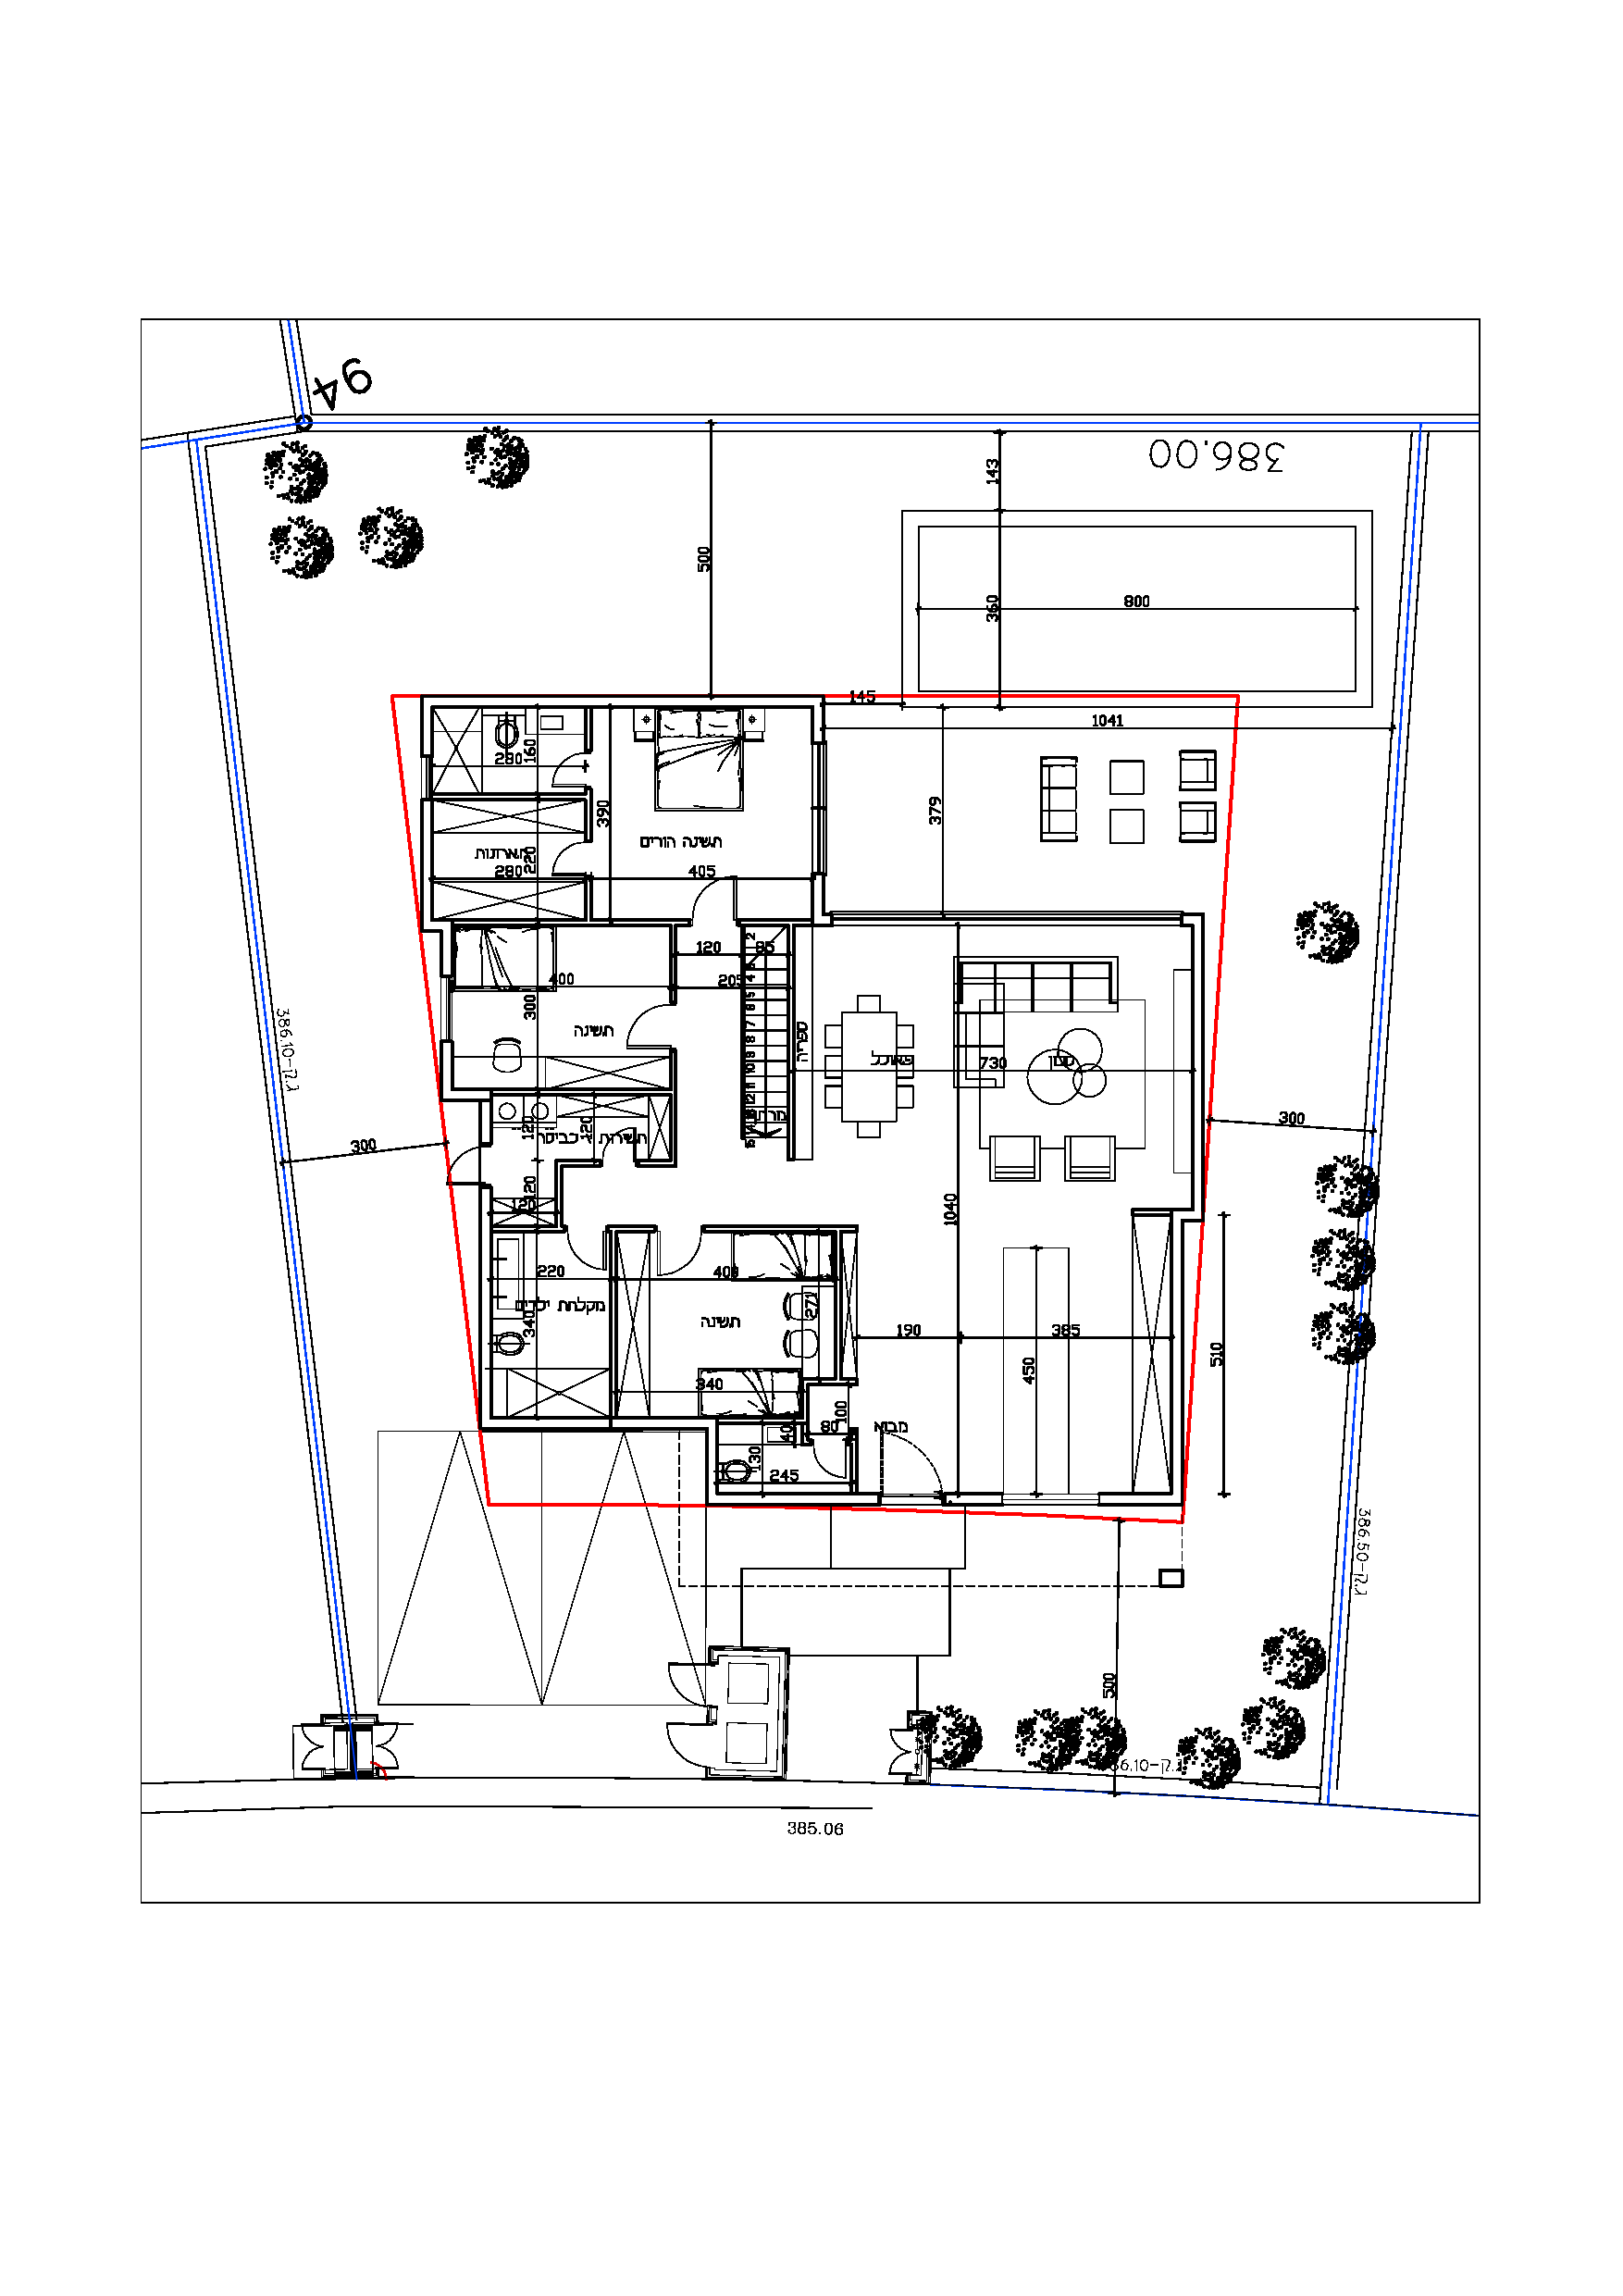door: (875, 1423, 947, 1491), (655, 1217, 706, 1274), (620, 1001, 669, 1047), (562, 1224, 610, 1270), (690, 880, 734, 921), (546, 840, 587, 871)
